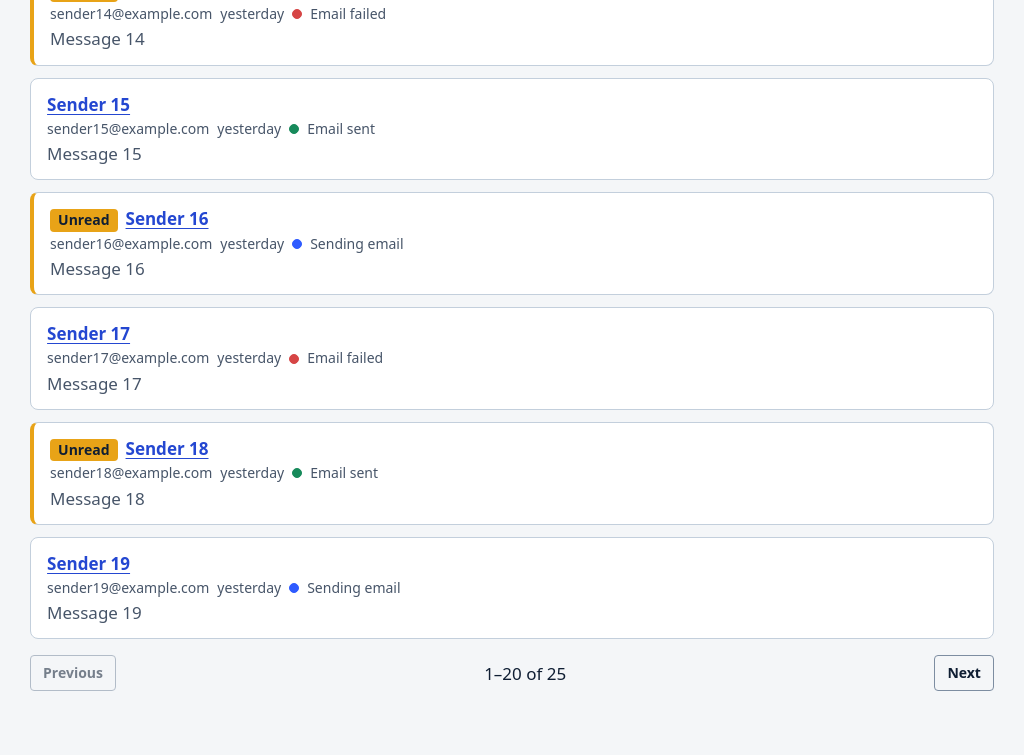
Messages: tab and list › paginates
The width and height of the screenshot is (1024, 755).
(page scrolled)
Expected: the button "Previous" is disabled, [30,656,116,692]
What coordinates should you click on to do the following:
click the button "Next"
I would click on:
 (964, 674)
Its box is [934,656,994,692].
(page scrolled)
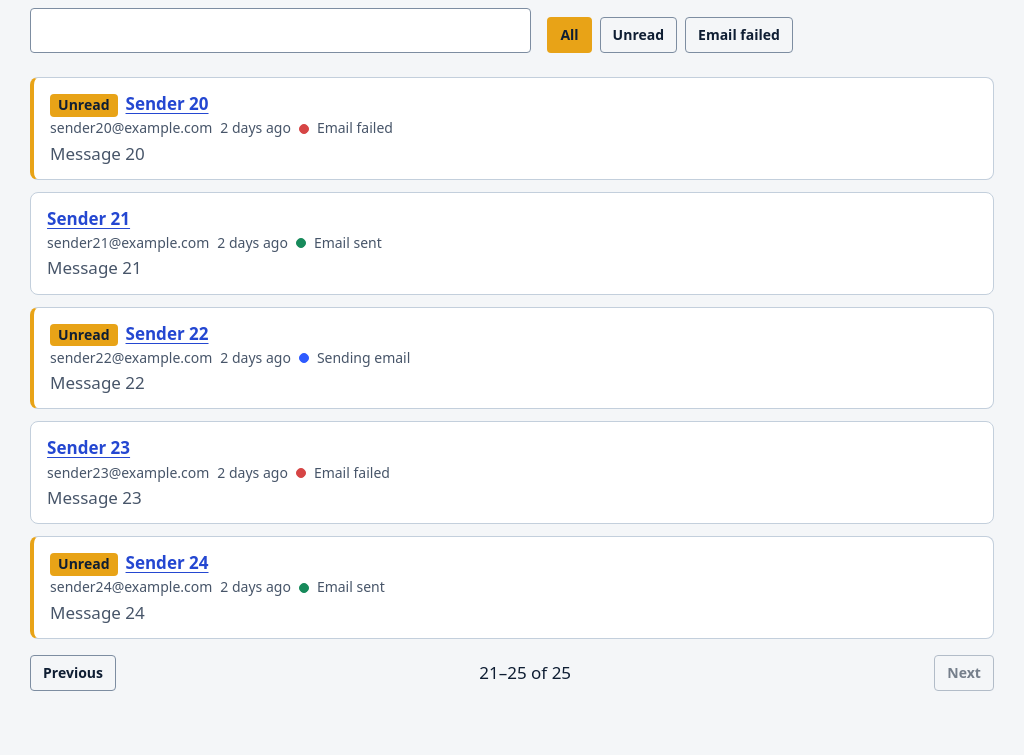
Result: the text "21–25 of 25" is shown at [479,659,571,687]
Result: the button "Next" is disabled at [934,655,994,691]
